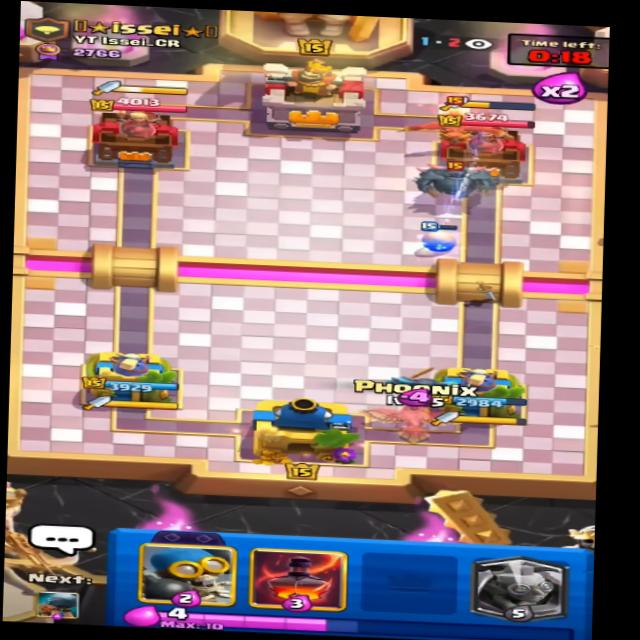pekka: (414, 151, 504, 208)
phoenix: (393, 96, 528, 152)
